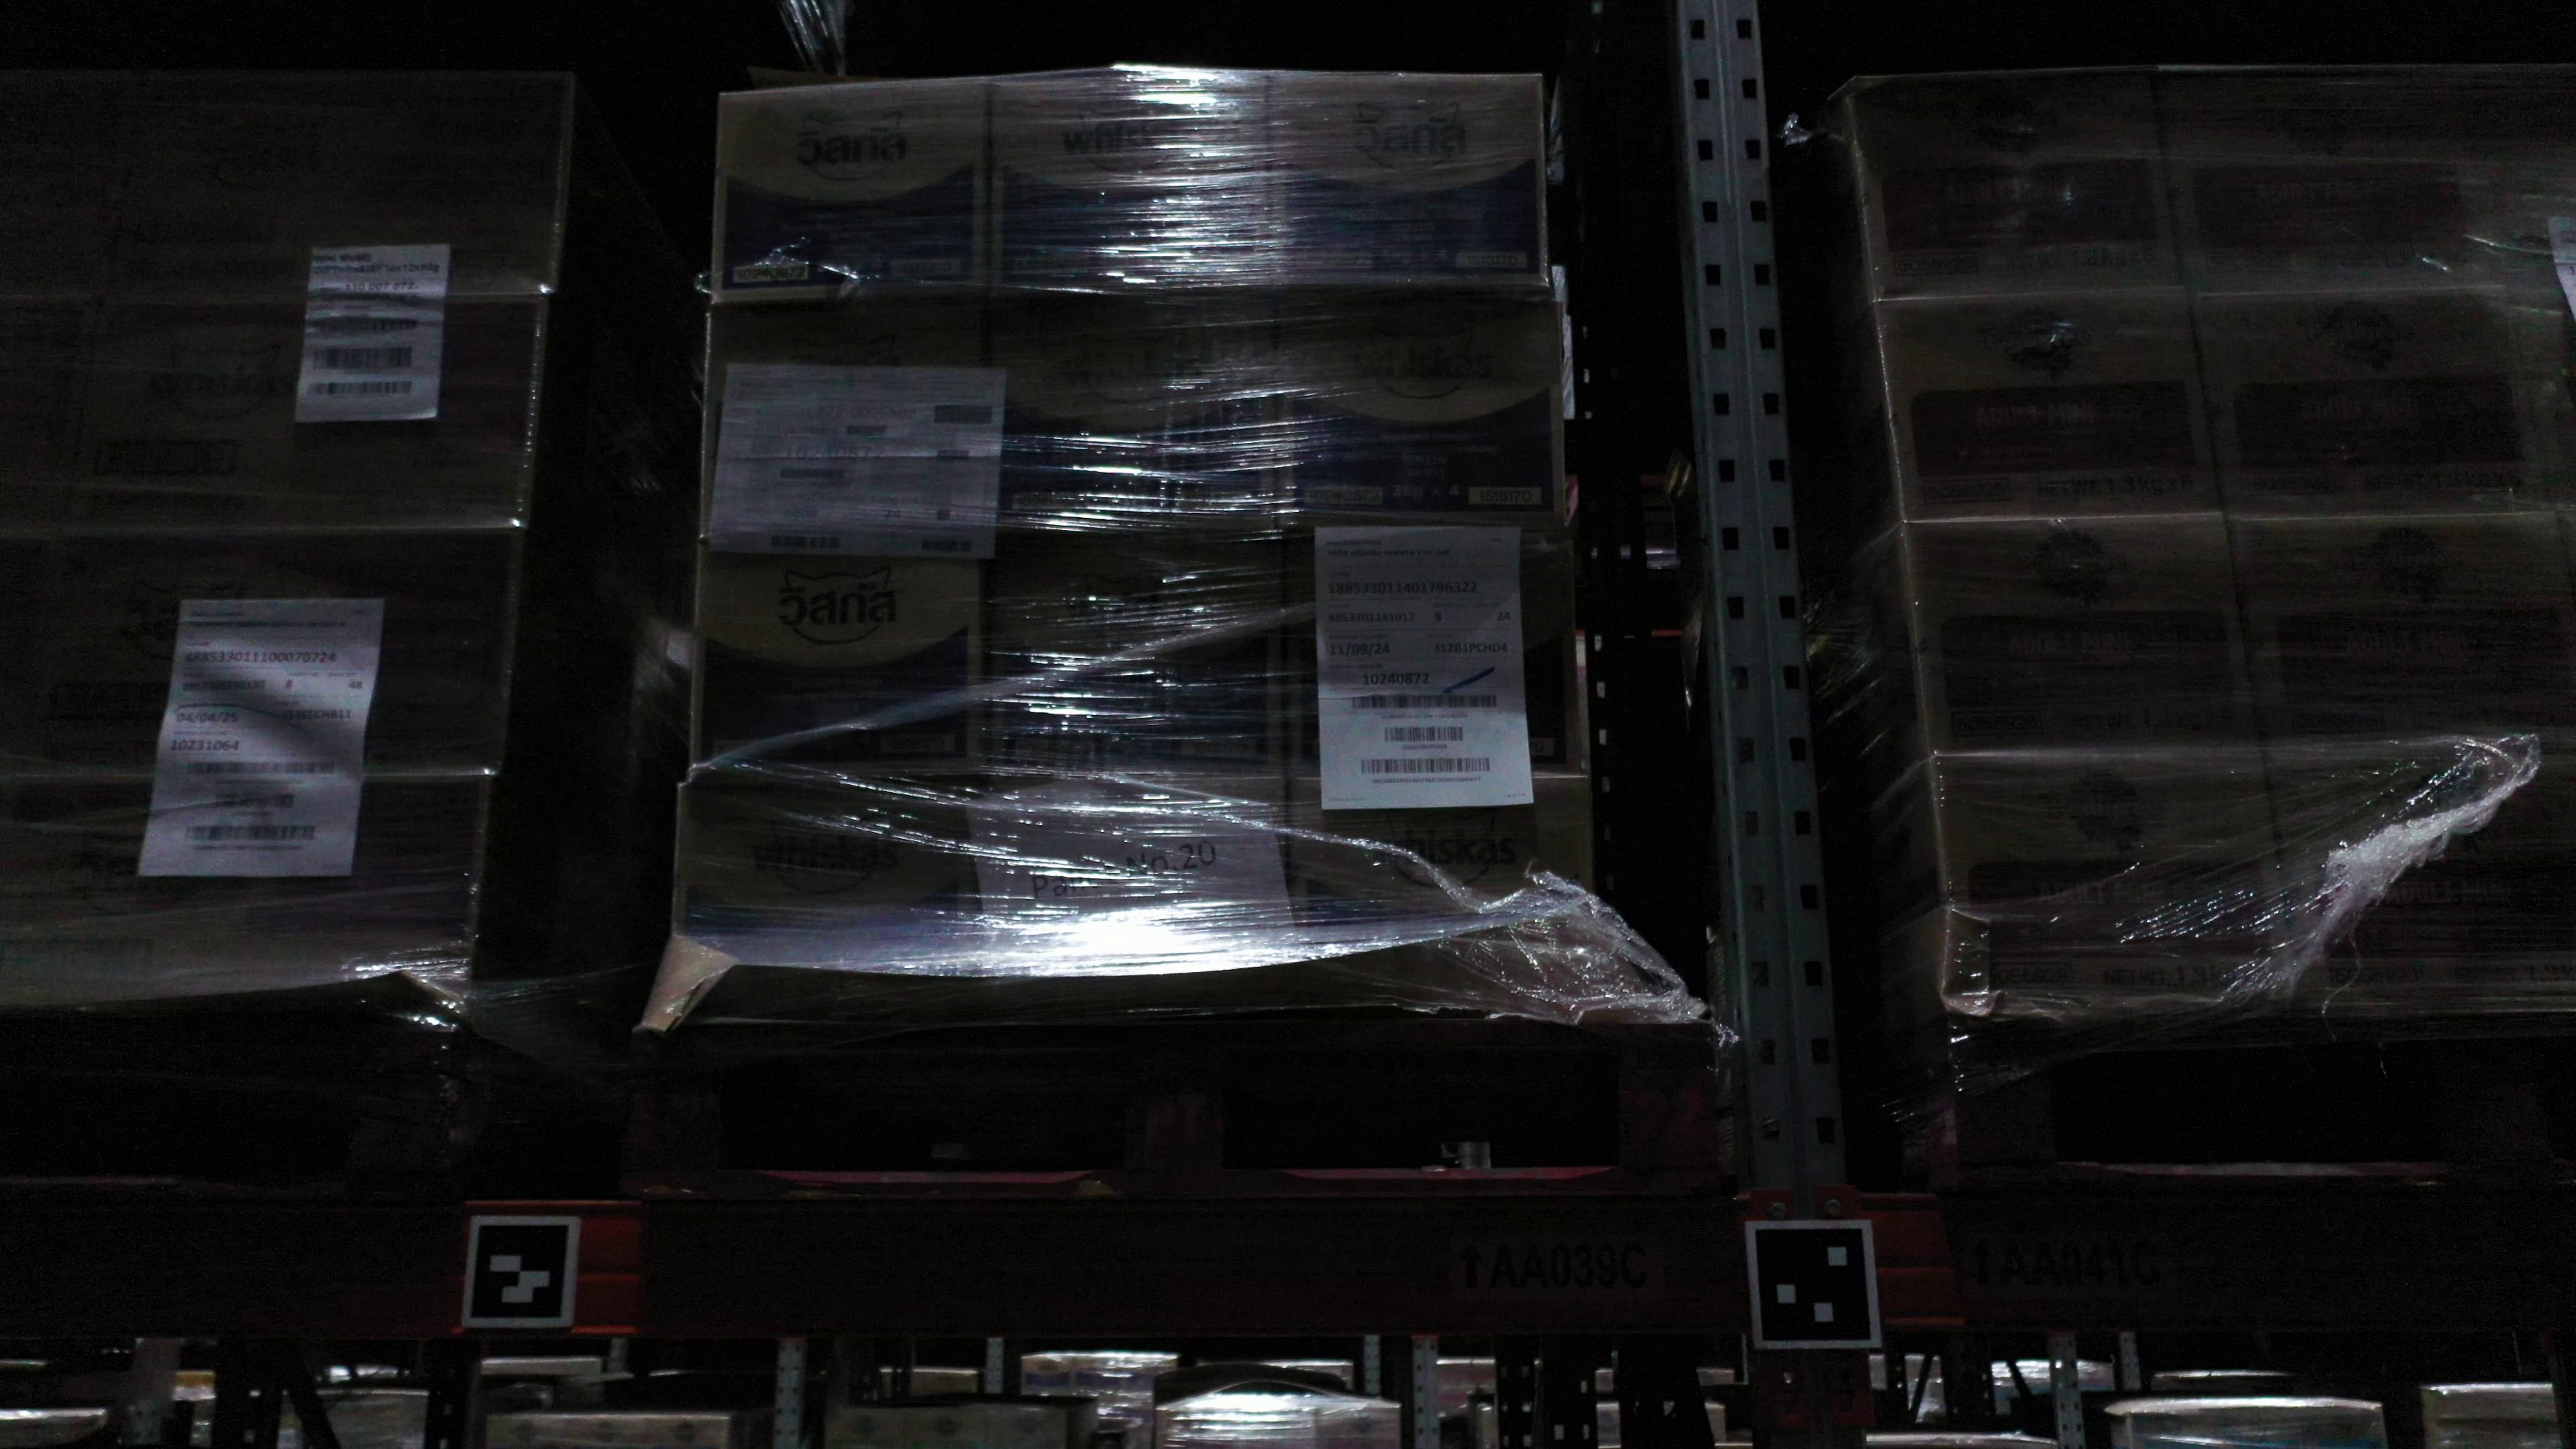-: (16, 531, 525, 778), (60, 295, 550, 540), (0, 773, 490, 1016), (104, 69, 575, 308), (1932, 752, 2311, 1016), (1905, 520, 2263, 757), (2192, 288, 2557, 518), (2226, 515, 2576, 752), (2265, 745, 2576, 1010), (1875, 294, 2222, 524), (2153, 71, 2507, 294), (1847, 71, 2180, 299), (975, 290, 1277, 536), (1283, 534, 1585, 778), (692, 533, 982, 786), (984, 534, 1283, 778), (1274, 294, 1568, 541), (697, 303, 985, 534), (711, 76, 989, 308), (989, 69, 1272, 295), (975, 780, 1288, 980), (1265, 74, 1552, 290), (671, 782, 984, 977), (1286, 778, 1591, 959), (0, 69, 143, 304), (2459, 69, 2576, 288), (0, 299, 101, 536)
